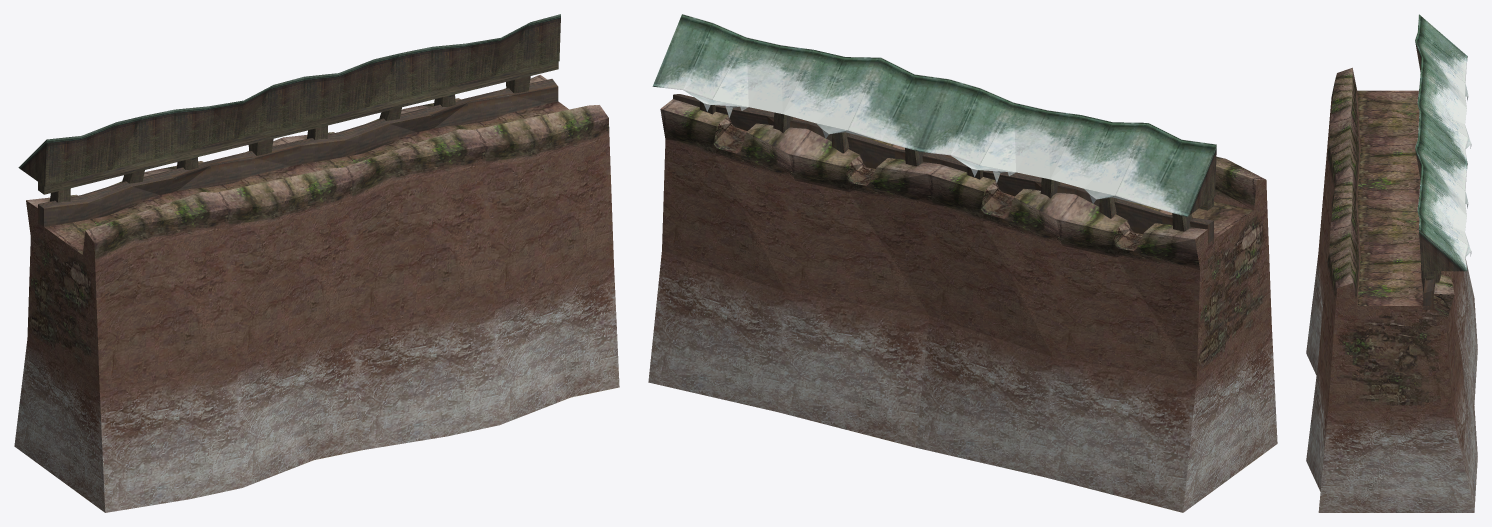
Rendered from C1SMWA20SNH.bgf.obj.
3 renders of one model, left to right at view 1: azimuth 30°, elevation 25°; view 2: azimuth 150°, elevation 25°; view 3: azimuth 270°, elevation 25°, orthographic. The views are drawn at different scales.
Visible parts, largest first — view 1: C1SMWA20SNH; view 2: C1SMWA20SNH; view 3: C1SMWA20SNH.
Boxes of the visible parts, box(x1,y1,x2,y2) form: C1SMWA20SNH: box(14, 14, 619, 512); C1SMWA20SNH: box(648, 14, 1277, 512); C1SMWA20SNH: box(1306, 14, 1477, 512).
Bounding box in the file's own units: 20 × 12.55 × 6.74.
4 materials, 4 textured.
